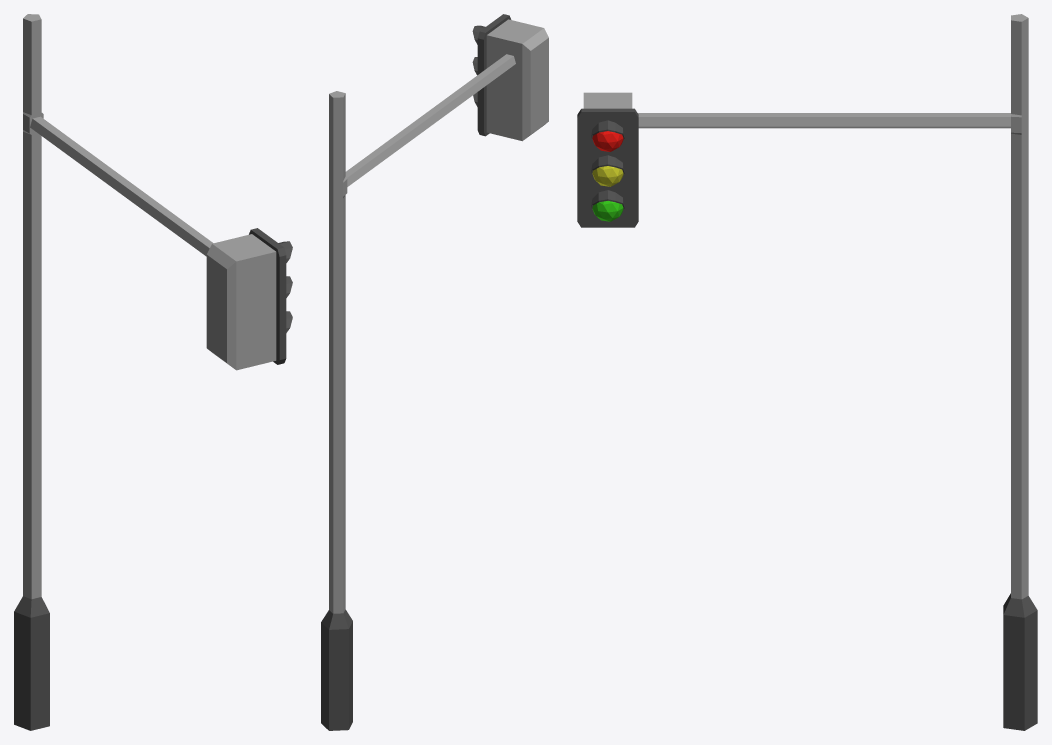
File: prop_TrafficLight_2.glb
3 views of the same model, side by side, from view 1: azimuth 30°, elevation 25°; view 2: azimuth 150°, elevation 25°; view 3: azimuth 270°, elevation 25° (orthographic). The views are drawn at different scales.
Parts seen in each view (by area): view 1: TrafficLight_2; view 2: TrafficLight_2; view 3: TrafficLight_2.
Part boxes in pixels (x1,y1,x2,y2): TrafficLight_2: (14,14,292,730); TrafficLight_2: (321,14,548,730); TrafficLight_2: (577,14,1037,730).
Size of the model in its own units: 0.5637 by 5.2 by 3.08.
Materials: 1 (1 with a texture image).
